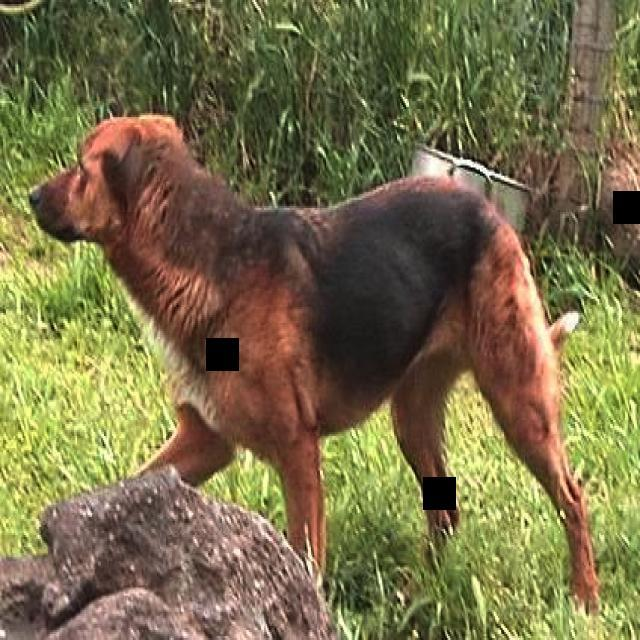adult_dog: (25, 109, 606, 620)
